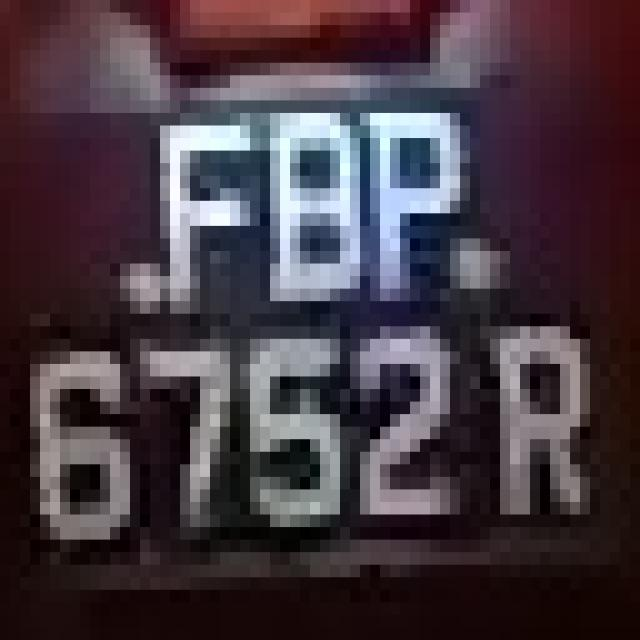2: (330, 339, 480, 552)
5: (240, 327, 350, 578)
6: (20, 314, 140, 577)
7: (120, 326, 240, 540)
B: (250, 100, 370, 314)
F: (130, 88, 280, 339)
P: (370, 63, 470, 301)
R: (490, 326, 590, 540)
